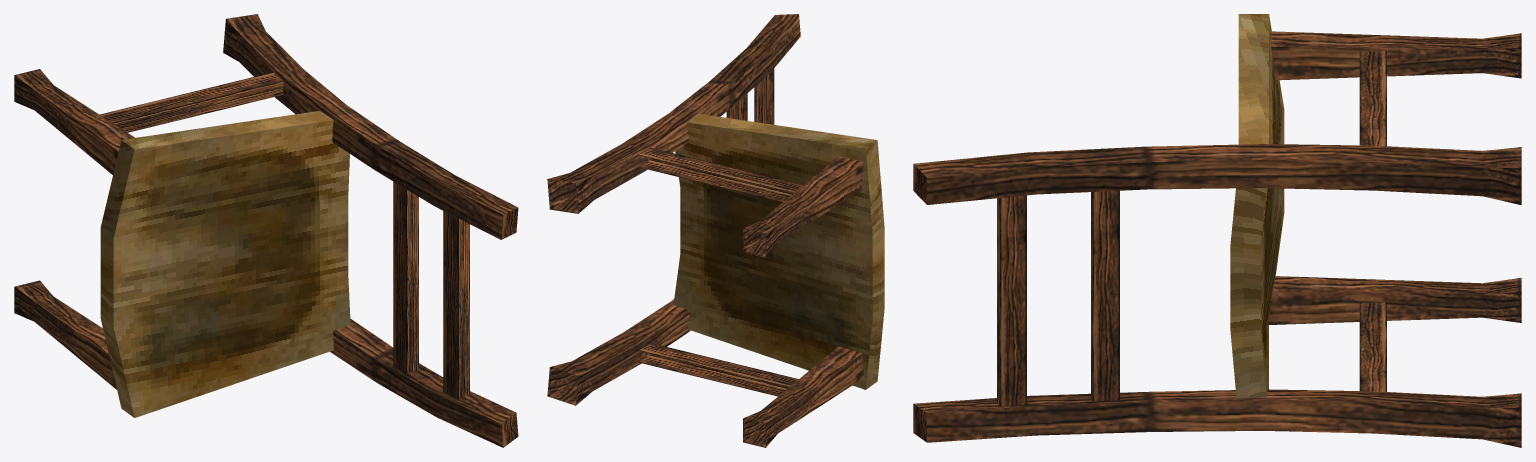
File: INST_SWORDLIGHT_CHAIR.fbx
3 views of the same model, side by side, from view 1: azimuth 30°, elevation 25°; view 2: azimuth 150°, elevation 25°; view 3: azimuth 270°, elevation 25° (orthographic). The views are drawn at different scales.
Visible parts, largest first — view 1: INST_SWORDLIGHT_CHAIR; view 2: INST_SWORDLIGHT_CHAIR; view 3: INST_SWORDLIGHT_CHAIR.
Boxes of the visible parts, box(x1,y1,x2,y2) form: INST_SWORDLIGHT_CHAIR: box(14, 14, 518, 447); INST_SWORDLIGHT_CHAIR: box(547, 14, 884, 447); INST_SWORDLIGHT_CHAIR: box(913, 14, 1521, 447).
Size of the model in its own units: 5830 by 5679 by 10074.
Materials: 2 (2 with a texture image).
